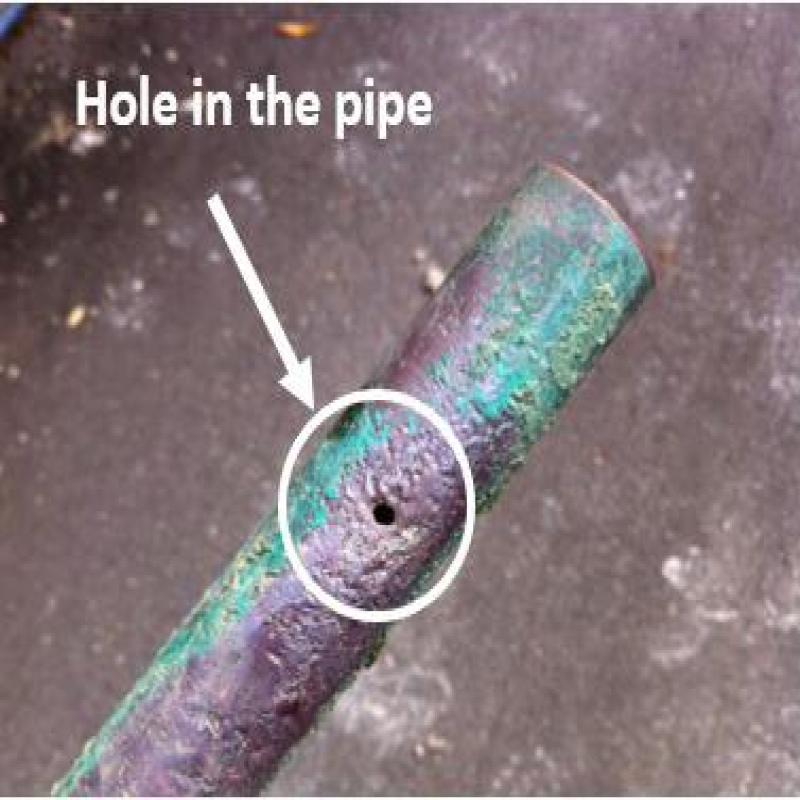Fracture: (362, 482, 406, 537)
